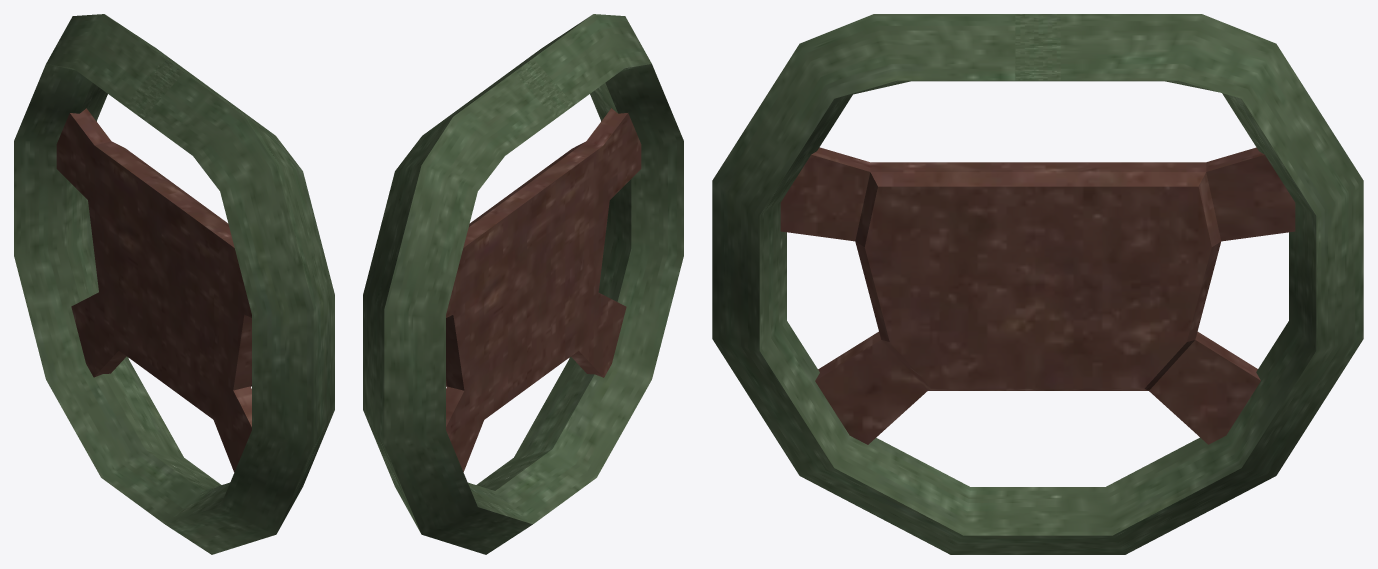
The picture shows the model from 3 angles, left to right: view 1: azimuth 30°, elevation 25°; view 2: azimuth 150°, elevation 25°; view 3: azimuth 270°, elevation 25°; orthographic projection. The views are drawn at different scales.
Visible parts, largest first — view 1: Wheel_3, INT_WHEEL_003; view 2: Wheel_3, INT_WHEEL_003; view 3: Wheel_3, INT_WHEEL_003.
Boxes of the visible parts, left/top/right/bottom form: Wheel_3: left=14, top=14, right=334, bottom=554; INT_WHEEL_003: left=56, top=108, right=251, bottom=472; Wheel_3: left=363, top=14, right=683, bottom=554; INT_WHEEL_003: left=446, top=108, right=641, bottom=471; Wheel_3: left=712, top=14, right=1363, bottom=554; INT_WHEEL_003: left=780, top=147, right=1295, bottom=444.
Bounding box in the file's own units: 0.4946 × 2.63 × 2.87.
Materials: 2 (2 with a texture image).
